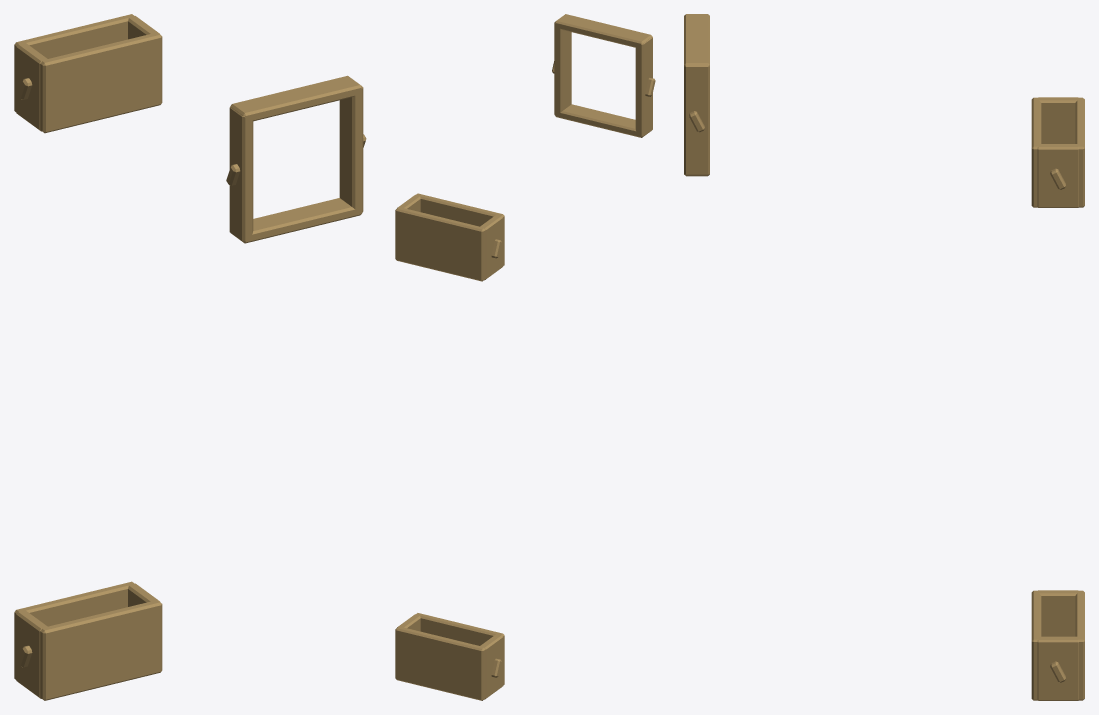
Rendered from bridge-cantilever-hardware.glb.
The picture shows the model from 3 angles, left to right: view 1: azimuth 30°, elevation 25°; view 2: azimuth 150°, elevation 25°; view 3: azimuth 270°, elevation 25°; orthographic projection. The views are drawn at different scales.
Parts seen in each view (by area): view 1: Bridge cantilever brass straps and rivets; view 2: Bridge cantilever brass straps and rivets; view 3: Bridge cantilever brass straps and rivets.
Boxes of the visible parts, x1,y1,x2,y2 form: Bridge cantilever brass straps and rivets: [14, 14, 366, 700]; Bridge cantilever brass straps and rivets: [395, 14, 655, 700]; Bridge cantilever brass straps and rivets: [684, 14, 1084, 700].
Bounding box in the file's own units: 0.337 × 1.77 × 1.01.
